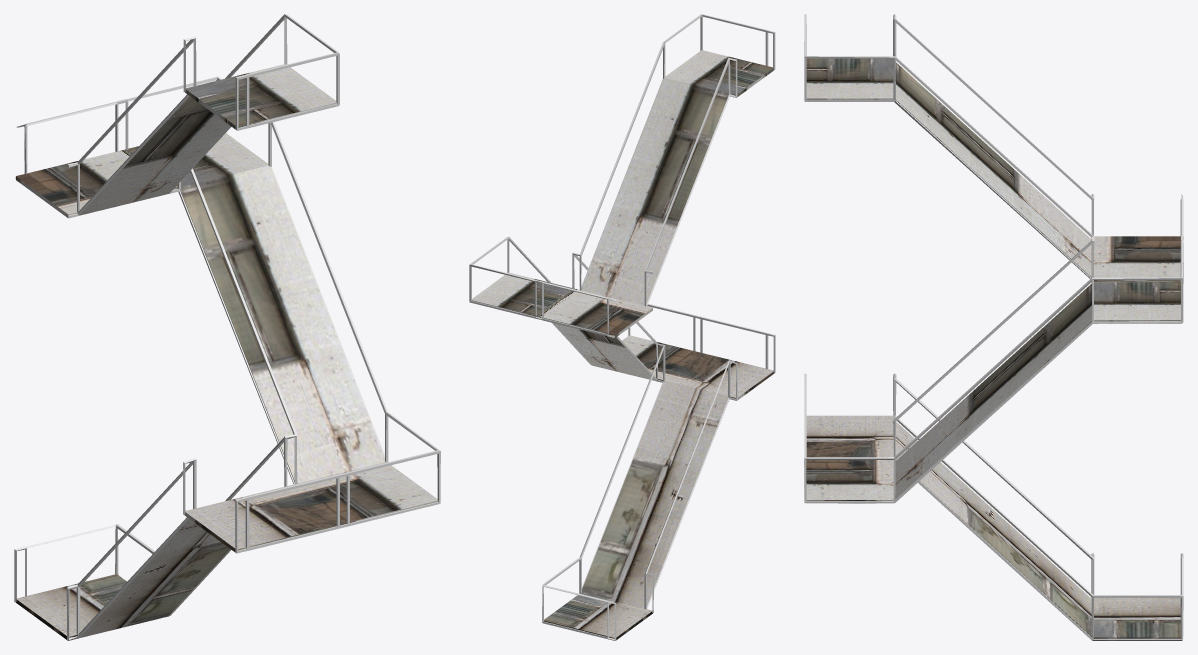
The model's file is fire_escape.glb.
3 renders of one model, left to right at view 1: azimuth 30°, elevation 25°; view 2: azimuth 150°, elevation 25°; view 3: azimuth 270°, elevation 25°, orthographic. The views are drawn at different scales.
Visible parts, largest first — view 1: Cube.076.col, Cube.079.col; view 2: Cube.076.col, Cube.079.col; view 3: Cube.076.col, Cube.079.col.
Boxes of the visible parts, x1=… form: Cube.076.col: x1=15, y1=64, x2=438, y2=640; Cube.079.col: x1=14, y1=14, x2=440, y2=640; Cube.076.col: x1=471, y1=50, x2=774, y2=640; Cube.079.col: x1=469, y1=14, x2=775, y2=640; Cube.076.col: x1=806, y1=58, x2=1181, y2=640; Cube.079.col: x1=804, y1=14, x2=1183, y2=640.
Bounding box in the file's own units: 1.02 × 3.25 × 1.91.
Materials: 1 (1 with a texture image).
